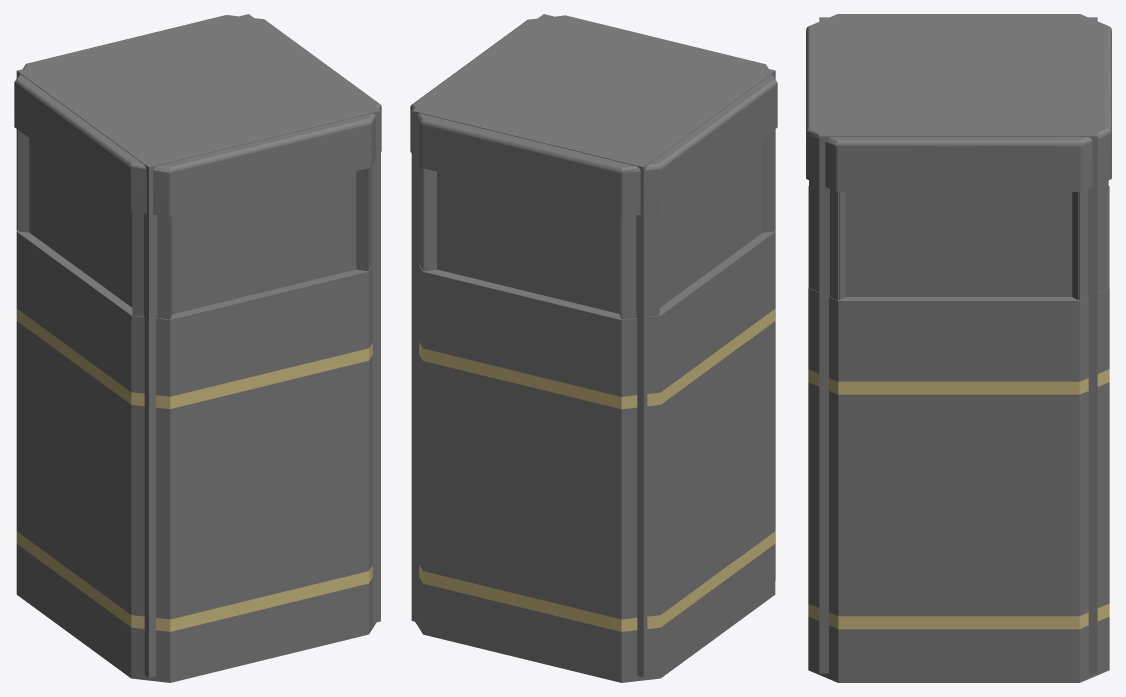
File: P_streetbin.fbx
3 renders of one model, left to right at view 1: azimuth 30°, elevation 25°; view 2: azimuth 150°, elevation 25°; view 3: azimuth 270°, elevation 25°, orthographic. The views are drawn at different scales.
Parts seen in each view (by area): view 1: mp_streetbin, lp_streetbin, HP_streetbin; view 2: mp_streetbin, lp_streetbin, HP_streetbin; view 3: mp_streetbin, lp_streetbin, HP_streetbin.
Boxes of the visible parts, box(x1,y1,x2,y2) form: mp_streetbin: box(16, 130, 376, 682); lp_streetbin: box(16, 14, 380, 677); HP_streetbin: box(14, 15, 381, 318); mp_streetbin: box(415, 130, 775, 682); lp_streetbin: box(411, 14, 775, 677); HP_streetbin: box(410, 15, 777, 318); mp_streetbin: box(808, 180, 1109, 682); lp_streetbin: box(819, 17, 1097, 673); HP_streetbin: box(806, 14, 1111, 299).
Bounding box in the file's own units: 46.09 × 90.23 × 46.09.
